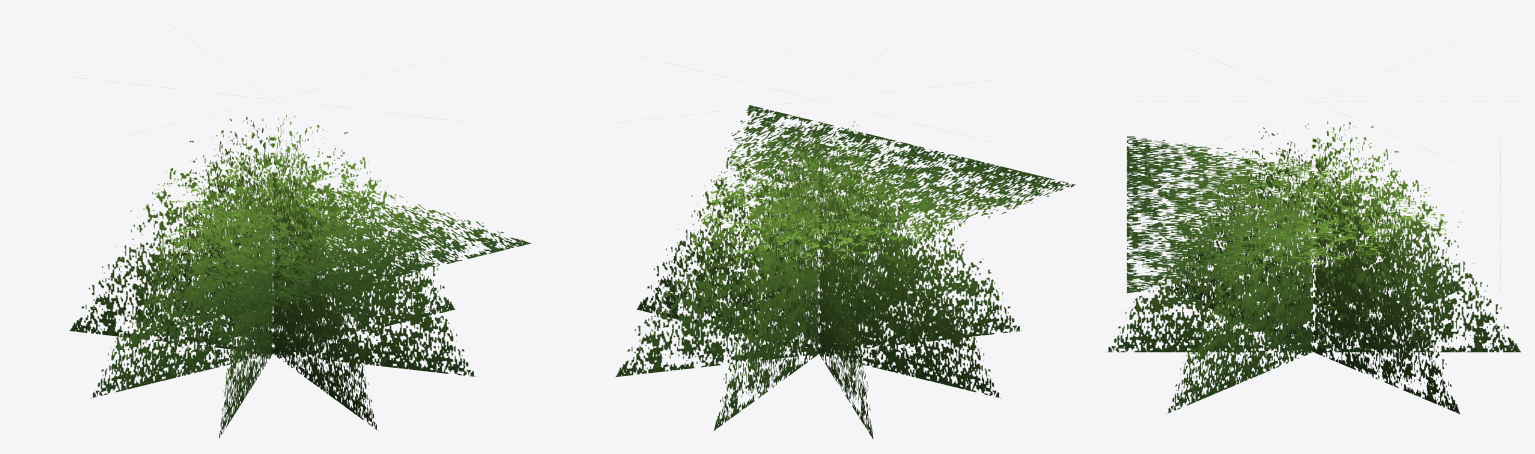
The model's file is moss.glb.
3 views of the same model, side by side, from view 1: azimuth 30°, elevation 25°; view 2: azimuth 150°, elevation 25°; view 3: azimuth 270°, elevation 25° (orthographic).
Parts seen in each view (by area): view 1: MossTuft; view 2: MossTuft; view 3: MossTuft.
Part boxes in pixels (bbox=[...]): MossTuft: bbox=[69, 114, 531, 438]; MossTuft: bbox=[615, 105, 1075, 439]; MossTuft: bbox=[1106, 101, 1520, 413].
Size of the model in its own units: 0.12 by 0.08 by 0.12.
Materials: 1 (1 with a texture image).
